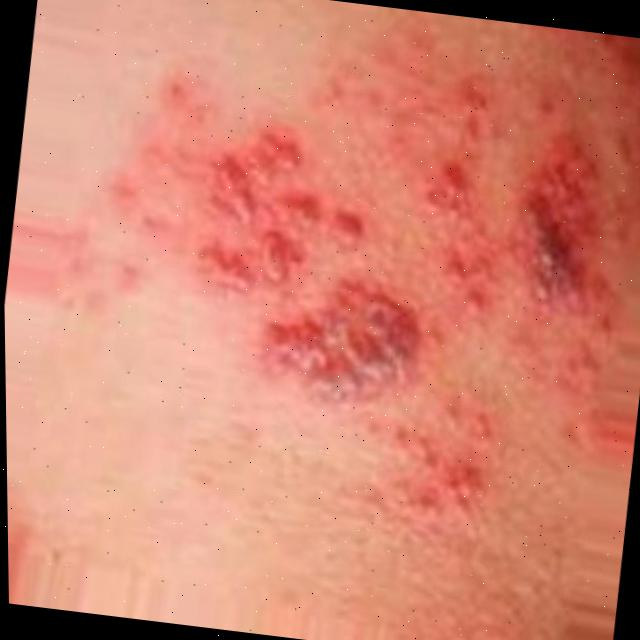Shingles: (165, 39, 635, 440)
